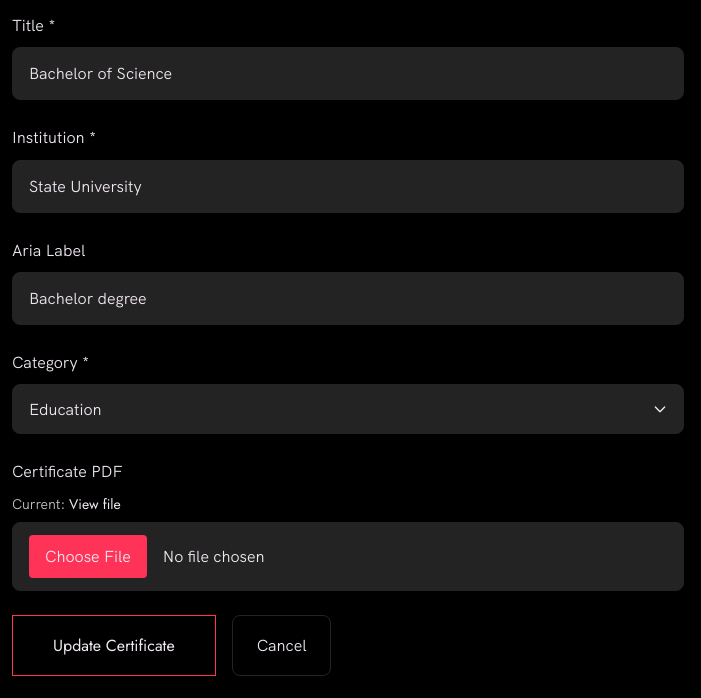
it: CertificateForm Component › Error Handling › displays error message when update fails
This screenshot has width=701, height=698.
Replace the text in the field labelled "Title *" with "Master of Science" at (348, 74), box [12,47,684,100]
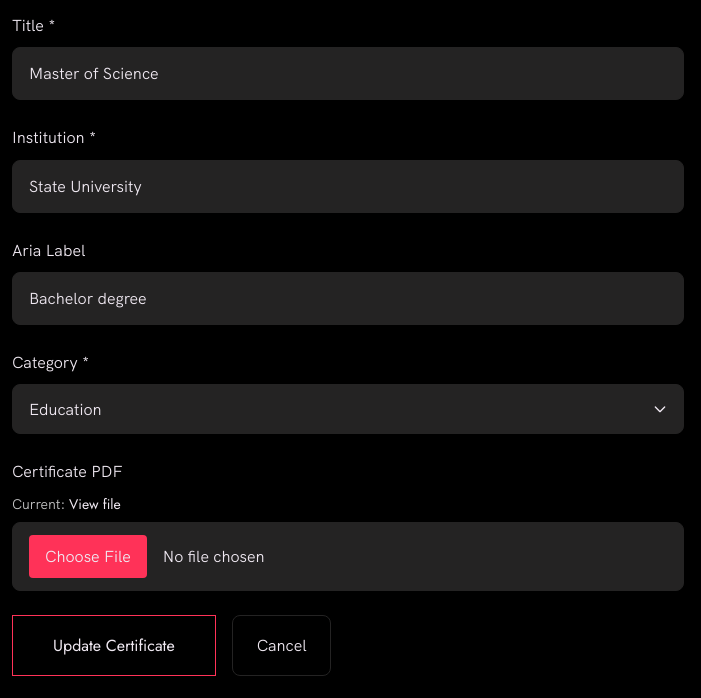
Click the button "Update Certificate".
click(114, 645)  # box [12,615,216,676]
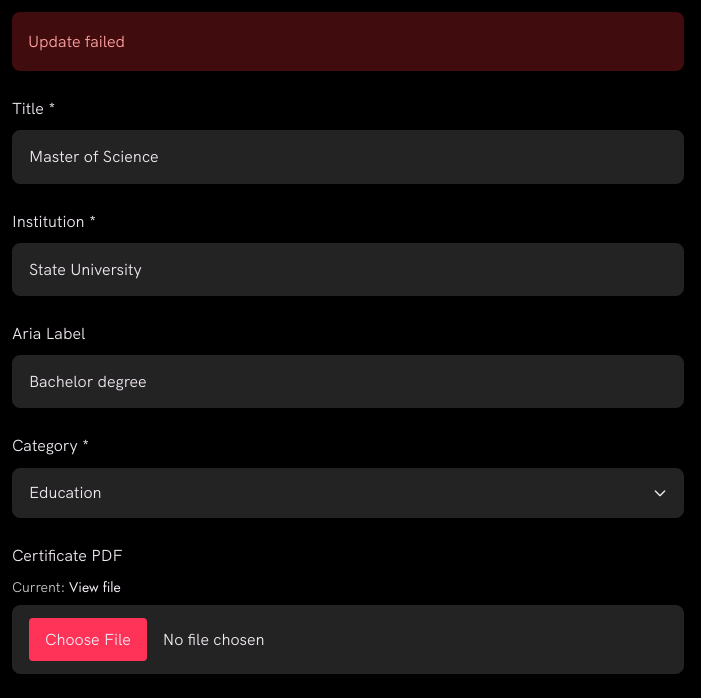
Expected: the text "Update failed" is shown, [12,12,684,71]
